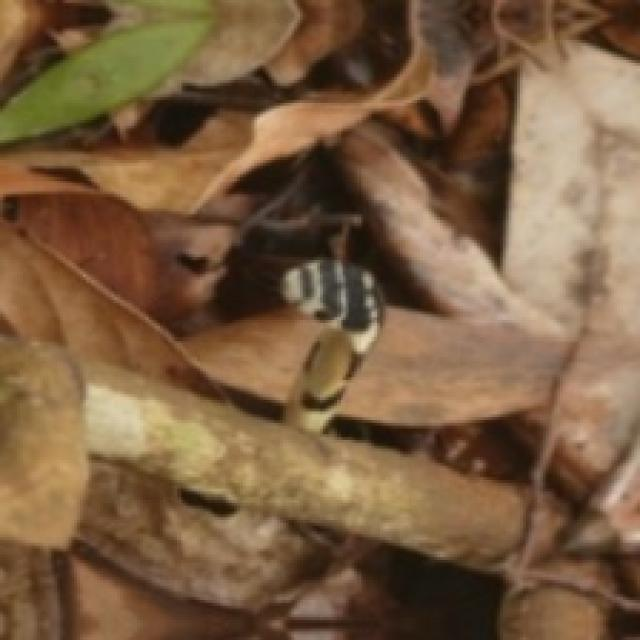king cobra: (280, 214, 380, 429)
